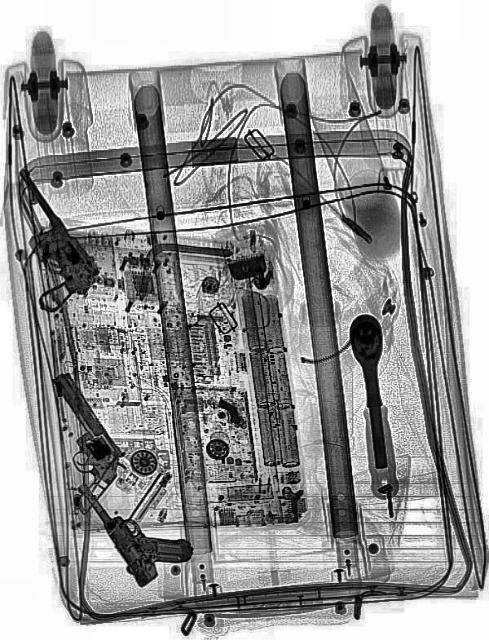Gun: (72, 444, 196, 600), (17, 366, 133, 514), (0, 168, 102, 304)
